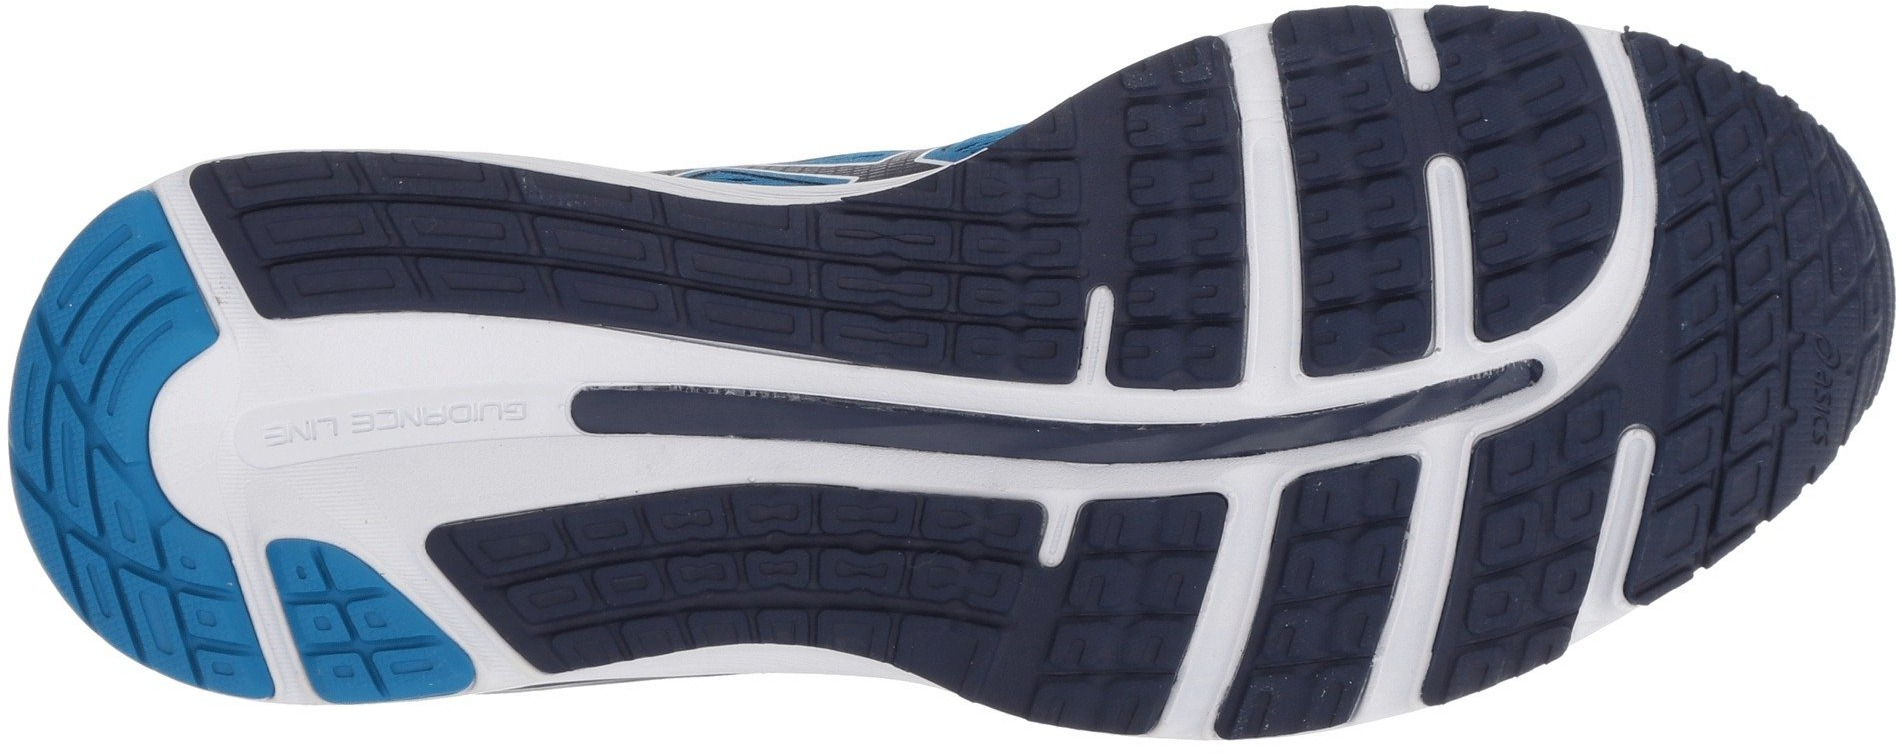bowtie: (807, 205, 1049, 382), (724, 484, 922, 656)
quad: (1116, 68, 1426, 383), (167, 122, 446, 369), (943, 482, 1215, 726), (15, 396, 213, 699), (247, 490, 475, 708), (1665, 136, 1840, 318), (1232, 520, 1424, 681), (1659, 326, 1830, 490)
ribbon: (258, 224, 680, 606), (653, 261, 1001, 579), (45, 316, 280, 548), (1360, 364, 1532, 536)
